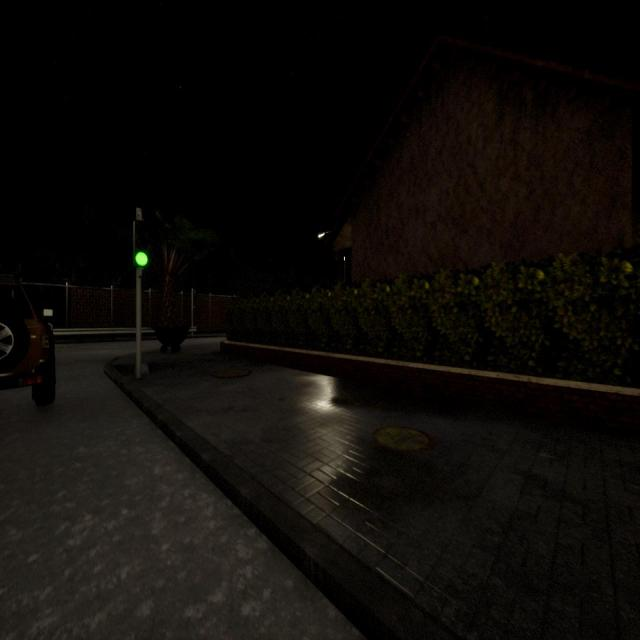Vehicle: (0, 282, 56, 406)
traffic_light: (133, 220, 149, 270), (192, 292, 197, 308)
